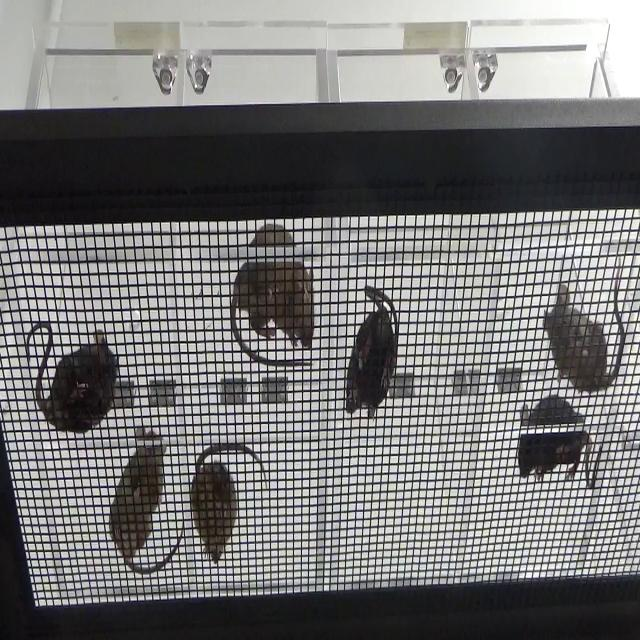scratch: (537, 255, 630, 398)
